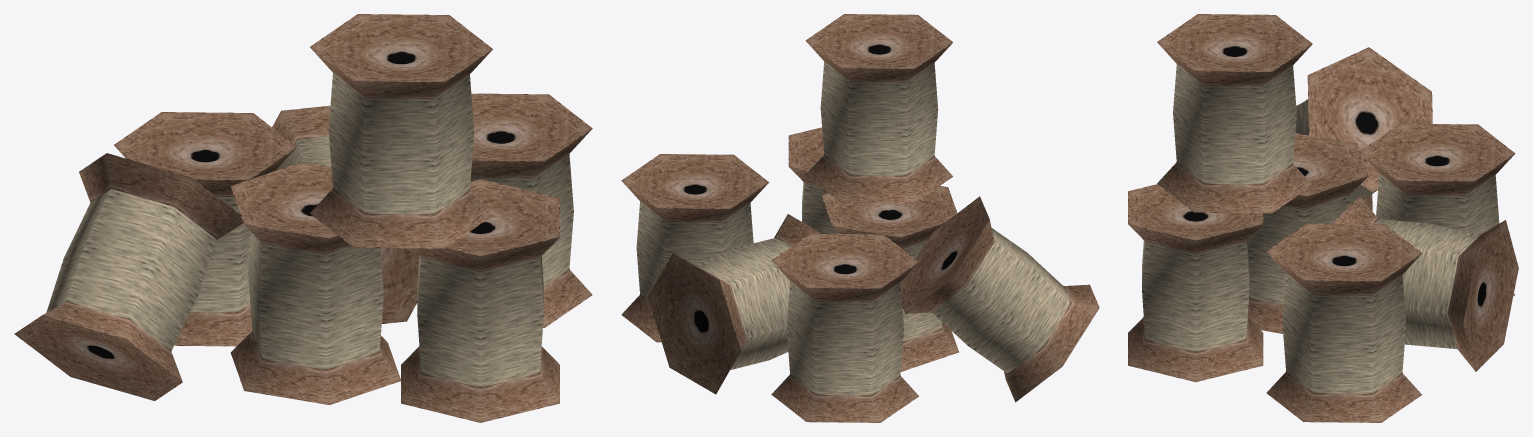
The model's file is shop_tailor_threadPile.fbx.
The picture shows the model from 3 angles, left to right: view 1: azimuth 30°, elevation 25°; view 2: azimuth 150°, elevation 25°; view 3: azimuth 270°, elevation 25°; orthographic projection. The views are drawn at different scales.
Parts seen in each view (by area): view 1: thread_spool.002, thread_spool1.002, thread_spool1.006, thread_spool.006, thread_spool1.005, thread_spool1.001, thread_spool.001, thread_spool.005, thread_spool.003, thread_spool, thread_spool.004, thread_spool1.003 (+2 smaller); view 2: thread_spool.002, thread_spool.003, thread_spool1.002, thread_spool1.003, thread_spool1.006, thread_spool.006, thread_spool.004, thread_spool, thread_spool1.004, thread_spool.005, thread_spool1, thread_spool.001 (+2 smaller); view 3: thread_spool, thread_spool.002, thread_spool1, thread_spool1.002, thread_spool1.001, thread_spool.001, thread_spool.006, thread_spool.003, thread_spool.004, thread_spool1.004, thread_spool.005, thread_spool1.003 (+2 smaller).
Boxes of the visible parts, bbox=[...] form: thread_spool.002: bbox=[310, 14, 492, 248]; thread_spool1.002: bbox=[328, 73, 474, 214]; thread_spool1.006: bbox=[46, 189, 215, 351]; thread_spool.006: bbox=[14, 153, 243, 400]; thread_spool1.005: bbox=[248, 232, 383, 369]; thread_spool1.001: bbox=[417, 256, 543, 387]; thread_spool.001: bbox=[401, 179, 559, 422]; thread_spool.005: bbox=[230, 162, 401, 404]; thread_spool.003: bbox=[114, 112, 296, 346]; thread_spool: bbox=[471, 93, 592, 327]; thread_spool.004: bbox=[272, 105, 419, 323]; thread_spool1.003: bbox=[190, 196, 250, 312]; thread_spool.002: bbox=[805, 14, 952, 203]; thread_spool.003: bbox=[771, 233, 918, 422]; thread_spool1.002: bbox=[820, 61, 938, 175]; thread_spool1.003: bbox=[786, 281, 903, 395]; thread_spool1.006: bbox=[932, 228, 1070, 373]; thread_spool.006: bbox=[900, 196, 1099, 402]; thread_spool.004: bbox=[648, 214, 821, 394]; thread_spool: bbox=[621, 154, 768, 342]; thread_spool1.004: bbox=[696, 238, 790, 369]; thread_spool.005: bbox=[821, 186, 958, 371]; thread_spool1: bbox=[636, 201, 753, 301]; thread_spool.001: bbox=[788, 127, 823, 186]; thread_spool: bbox=[1266, 223, 1421, 422]; thread_spool.002: bbox=[1157, 14, 1312, 213]; thread_spool1: bbox=[1282, 273, 1406, 393]; thread_spool1.002: bbox=[1173, 64, 1296, 184]; thread_spool1.001: bbox=[1142, 240, 1249, 351]; thread_spool.001: bbox=[1128, 184, 1263, 382]; thread_spool.006: bbox=[1296, 47, 1432, 211]; thread_spool.003: bbox=[1359, 123, 1515, 295]; thread_spool.004: bbox=[1333, 196, 1518, 371]; thread_spool1.004: bbox=[1374, 219, 1479, 348]; thread_spool.005: bbox=[1247, 133, 1368, 333]; thread_spool1.003: bbox=[1376, 174, 1499, 235].
Bounding box in the file's own units: 131 × 76.38 × 94.45.
Materials: 1 (1 with a texture image).
